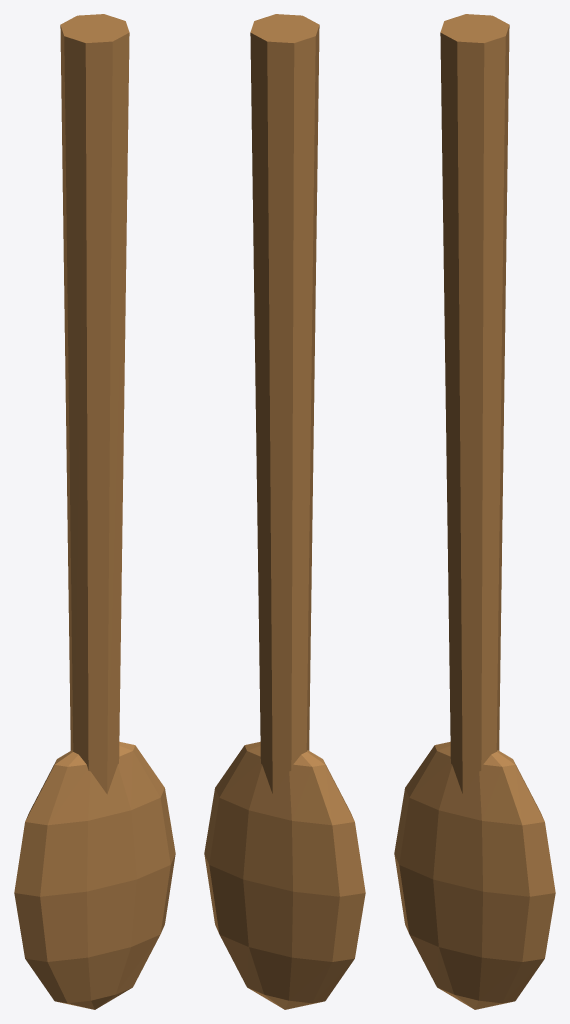
Rendered from tool_spoon.obj.
3 views of the same model, side by side, from view 1: azimuth 30°, elevation 25°; view 2: azimuth 150°, elevation 25°; view 3: azimuth 330°, elevation 25° (orthographic).
Parts seen in each view (by area): view 1: tool_spoon; view 2: tool_spoon; view 3: tool_spoon.
Boxes of the visible parts, left/top/right/bottom form: tool_spoon: left=14, top=14, right=175, bottom=1009; tool_spoon: left=204, top=14, right=365, bottom=1009; tool_spoon: left=394, top=14, right=555, bottom=1009.
Bounding box in the file's own units: 0.042 × 0.244 × 0.016.
